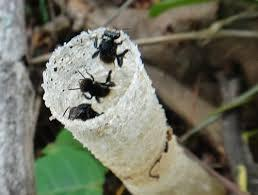Meliponula: (72, 65, 116, 109), (92, 24, 124, 70), (59, 97, 102, 130)
